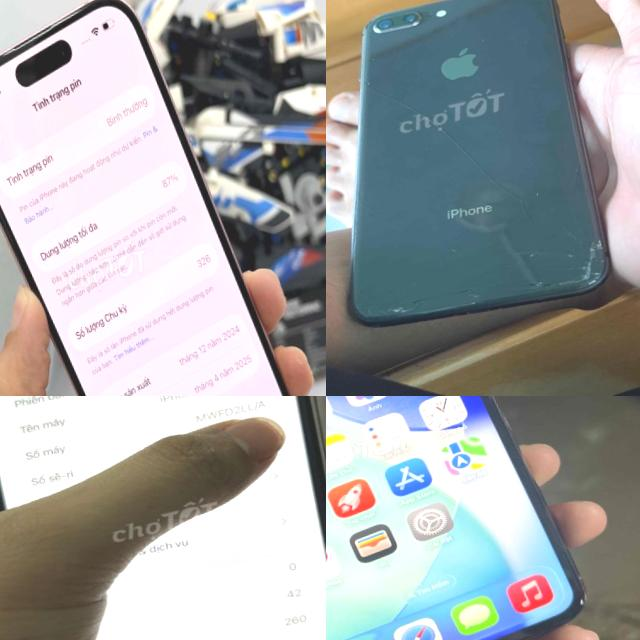physical_damage: (345, 30, 590, 264), (358, 255, 572, 336), (562, 229, 602, 285)
scratch: (353, 0, 428, 41)
